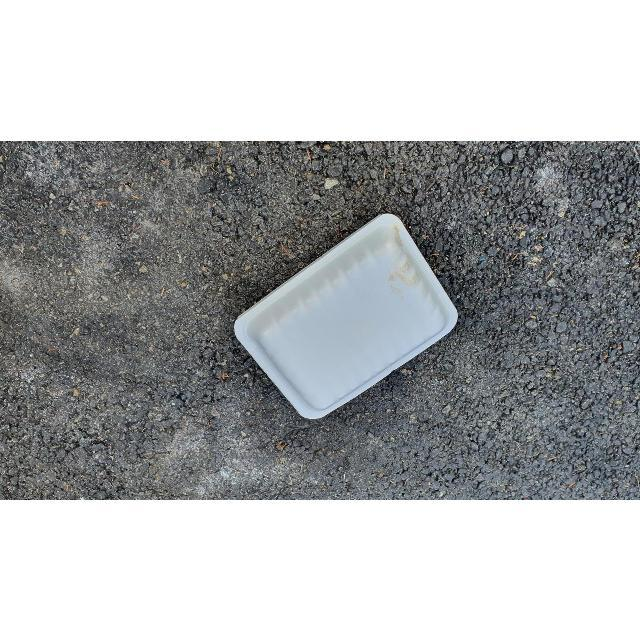Plastico descartable: (232, 214, 459, 423)
